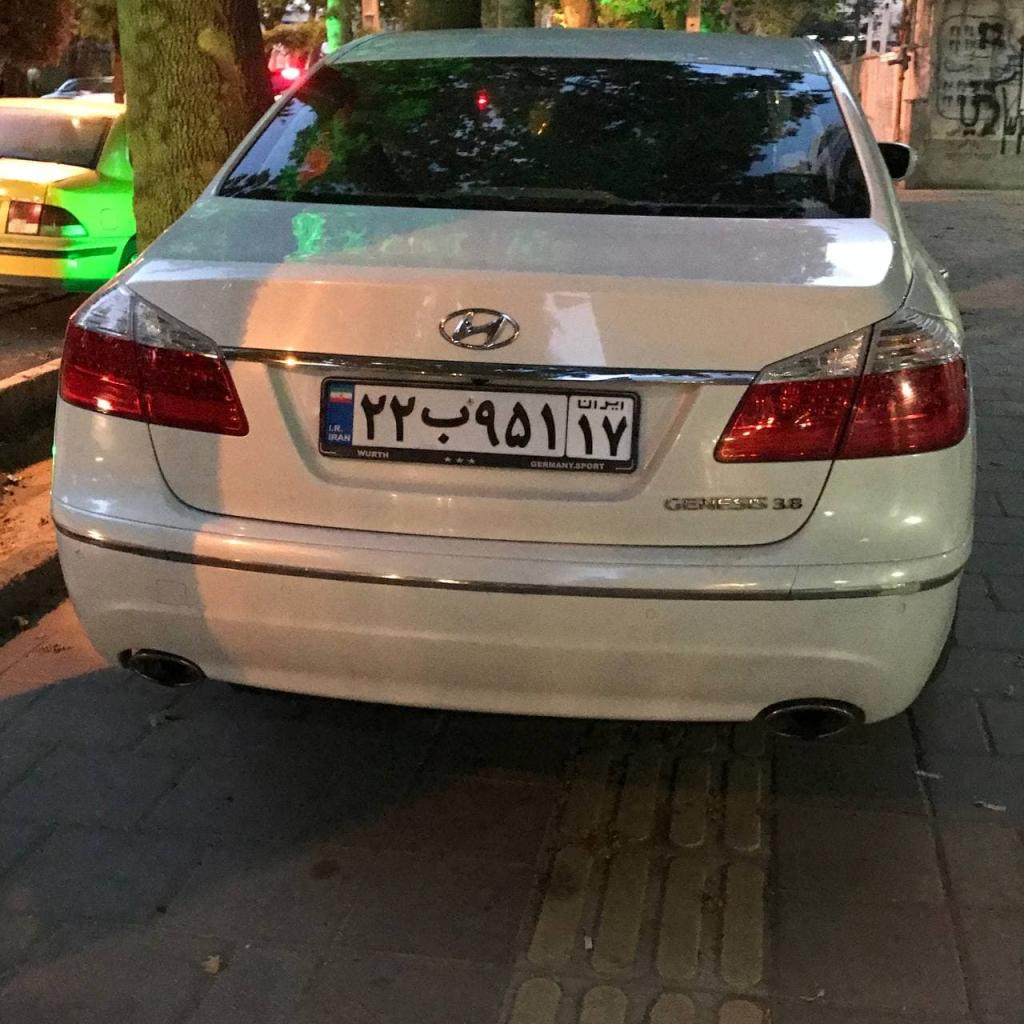Plates: (324, 380, 634, 460)
